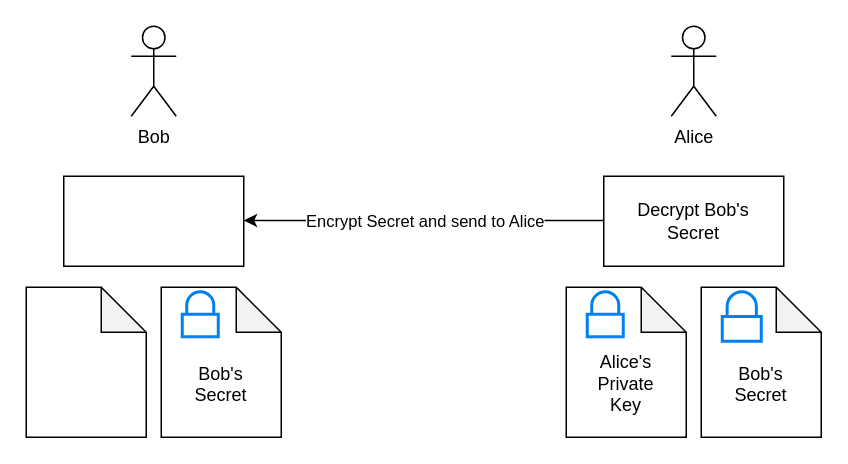
Some shapes in this 848 by 464 pixel diagram are drawn without their labels. Each missing label, with the box of its shape:
Alice's Public Key: (25, 286, 146, 437)
Create and encrypt a Secret: (62, 175, 244, 266)
